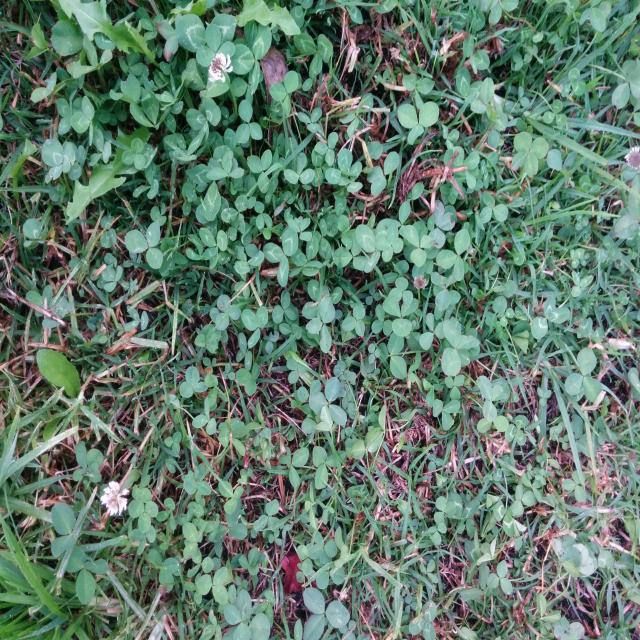Four Leaf Clover: (511, 131, 549, 178)
